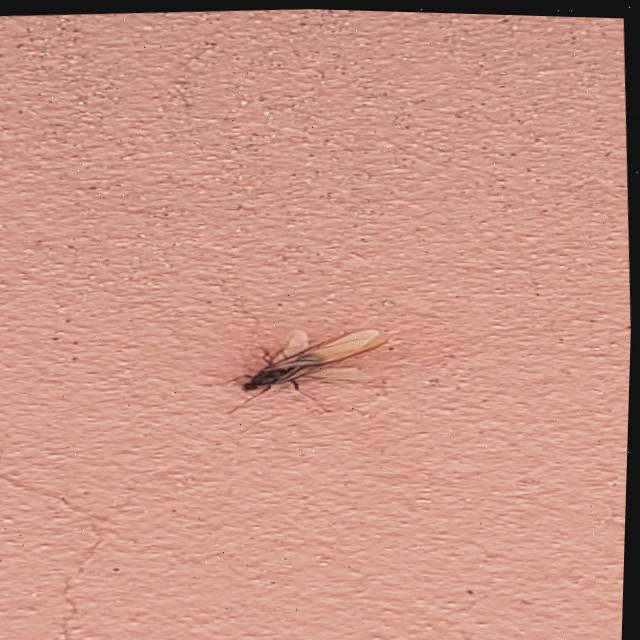Alive-Male-Alate: (226, 320, 396, 416)
